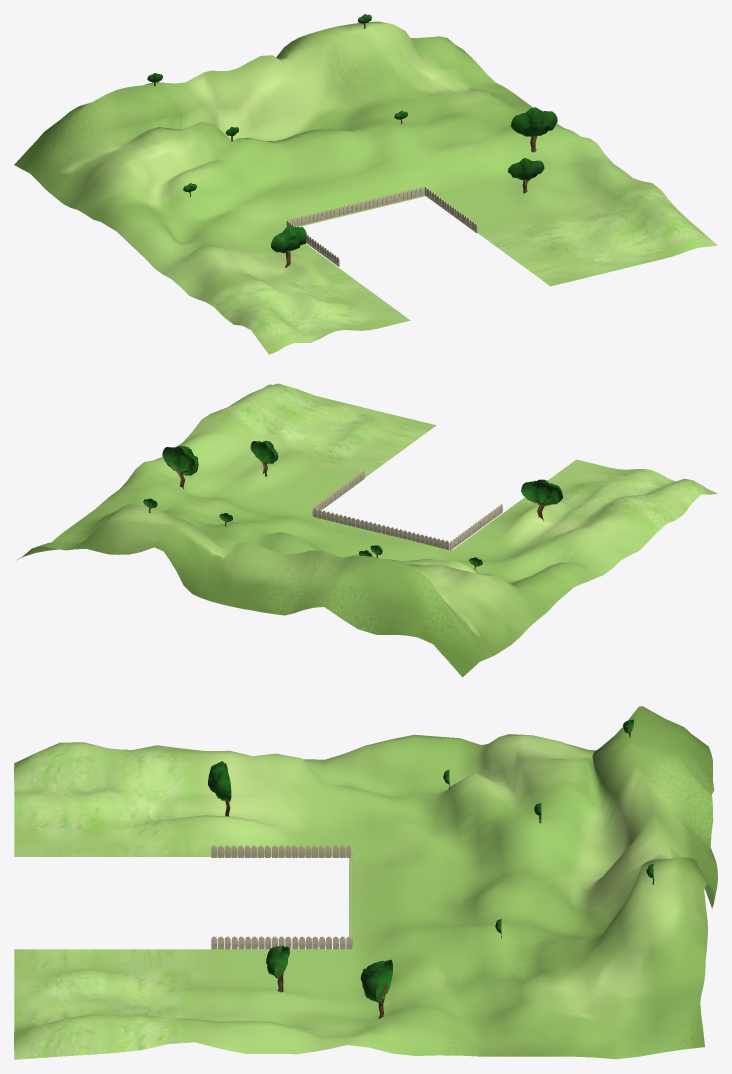
Rendered from Around.fbx.
3 renders of one model, top to bottom at view 1: azimuth 30°, elevation 25°; view 2: azimuth 150°, elevation 25°; view 3: azimuth 270°, elevation 25°, orthographic. The views are drawn at different scales.
Parts seen in each view (by area): view 1: grassland, Cylinder.001, Cylinder.008, Fence5, Cylinder.006; view 2: grassland, Cylinder.008, Cylinder.001, Fence5, Cylinder.006, Fence8, Fence7; view 3: grassland, Fence7, Fence8, Cylinder.001, Cylinder.008, Cylinder.006.
Boxes of the visible parts, bbox=[...] form: grassland: bbox=[14, 21, 717, 354]; Cylinder.001: bbox=[511, 107, 557, 152]; Cylinder.008: bbox=[271, 226, 306, 267]; Fence5: bbox=[289, 198, 377, 226]; Cylinder.006: bbox=[508, 158, 544, 193]; grassland: bbox=[16, 383, 717, 677]; Cylinder.008: bbox=[521, 479, 562, 521]; Cylinder.001: bbox=[162, 446, 198, 489]; Fence5: bbox=[360, 519, 449, 549]; Cylinder.006: bbox=[250, 440, 278, 476]; Fence8: bbox=[449, 504, 502, 550]; Fence7: bbox=[312, 470, 364, 516]; grassland: bbox=[14, 706, 717, 1059]; Fence7: bbox=[211, 936, 352, 949]; Fence8: bbox=[211, 845, 352, 857]; Cylinder.001: bbox=[360, 959, 392, 1018]; Cylinder.008: bbox=[208, 761, 231, 816]; Cylinder.006: bbox=[266, 946, 289, 992].
Size of the model in its own units: 5536 by 1233 by 5471.
4 materials, 4 textured.
